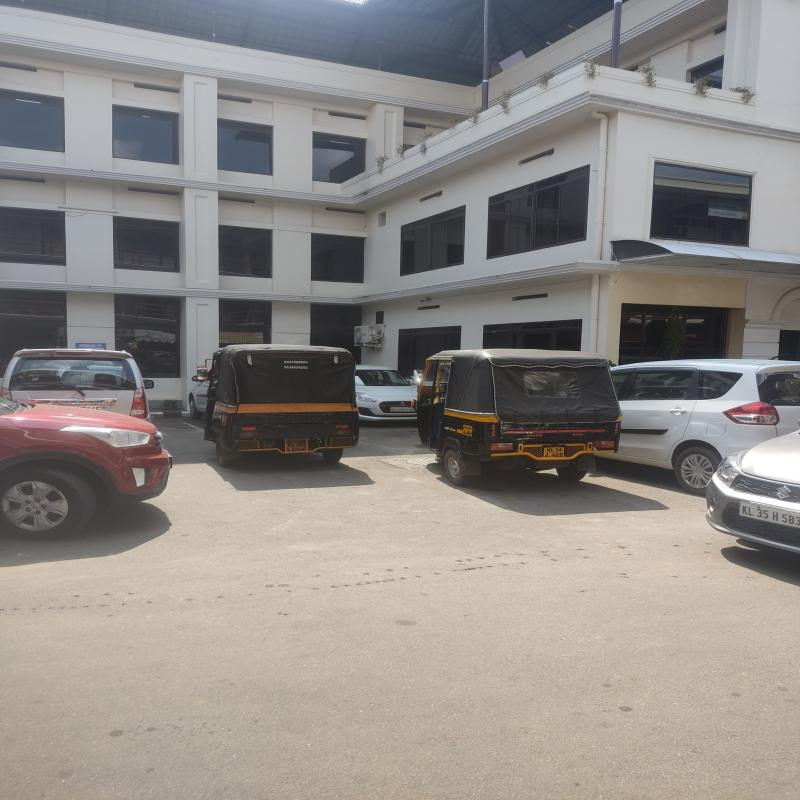auto: (424, 357, 612, 490), (196, 343, 362, 476)
